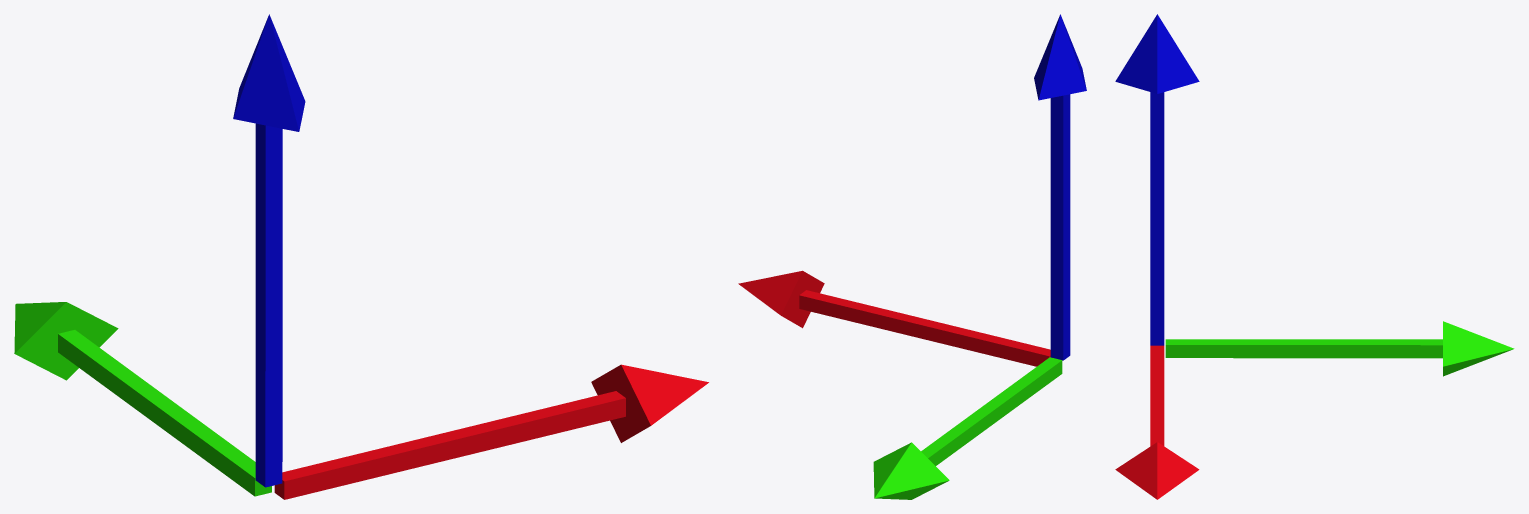
The model's file is gizmoxyz.fbx.
3 renders of one model, left to right at view 1: azimuth 30°, elevation 25°; view 2: azimuth 150°, elevation 25°; view 3: azimuth 270°, elevation 25°, orthographic. The views are drawn at different scales.
Visible parts, largest first — view 1: Cone; view 2: Cone; view 3: Cone.
Boxes of the visible parts, bbox=[...] form: Cone: bbox=[14, 14, 708, 499]; Cone: bbox=[738, 14, 1086, 499]; Cone: bbox=[1115, 14, 1514, 499].
Size of the model in its own units: 100 by 100 by 99.95.
